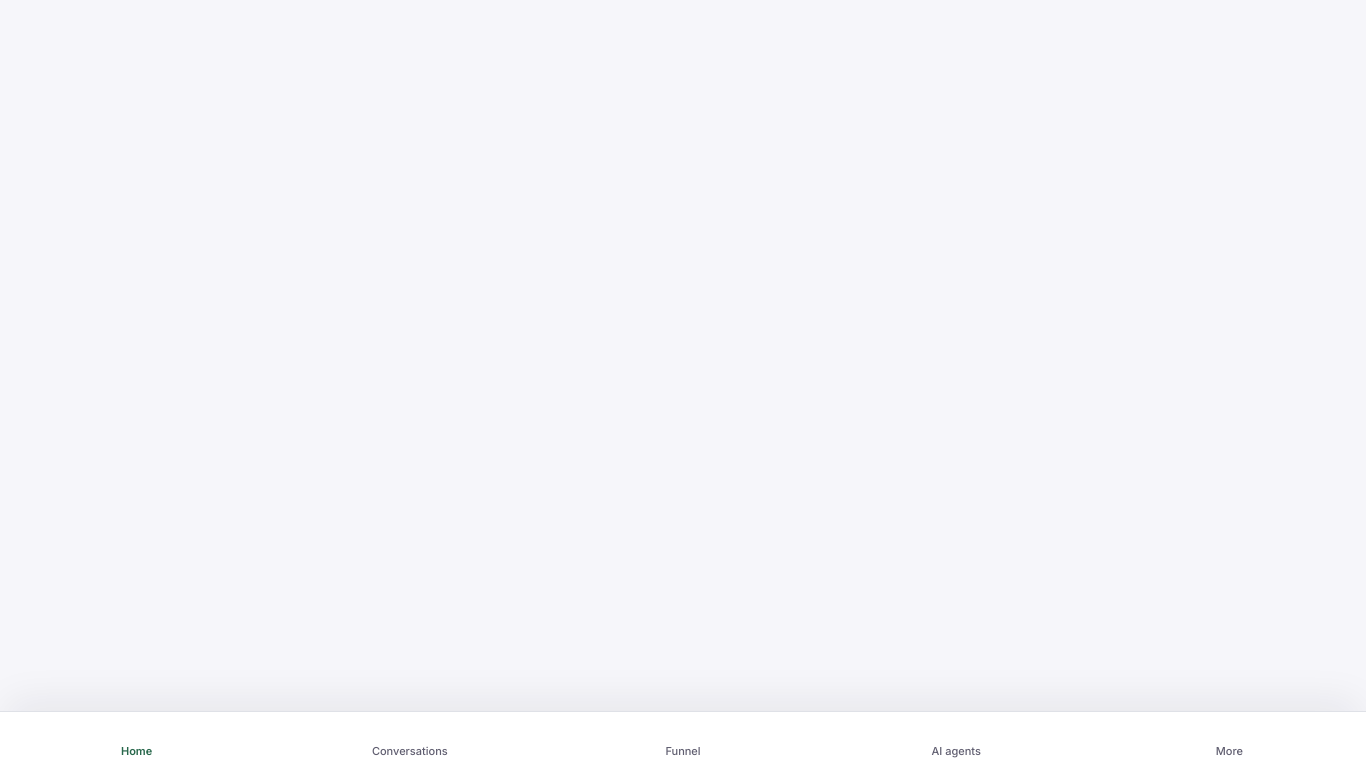
Scenario: MobileNav › closes after choosing a section
Click the button with aria-label "Open menu": (1229, 751) [1093,712,1365,767]
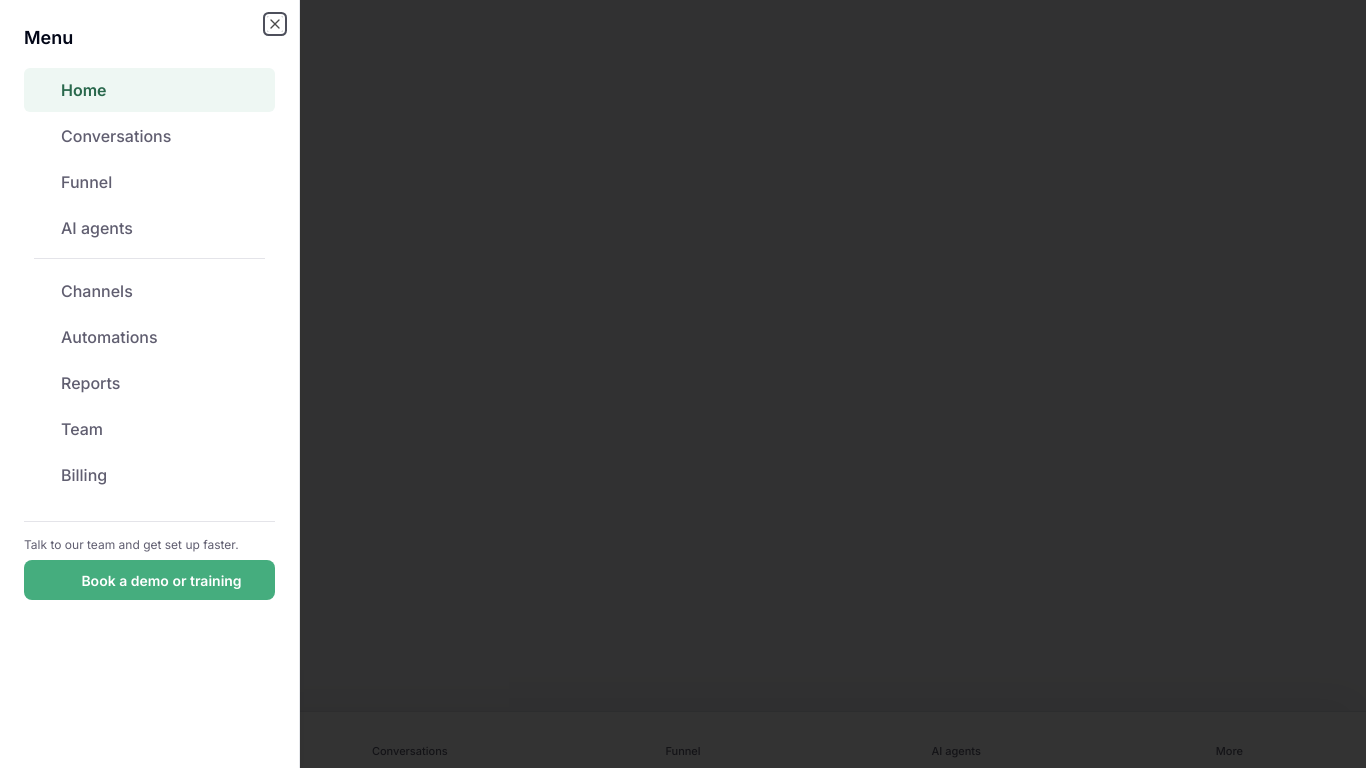
Click the link "Team": (82, 429) [61,419,103,439]
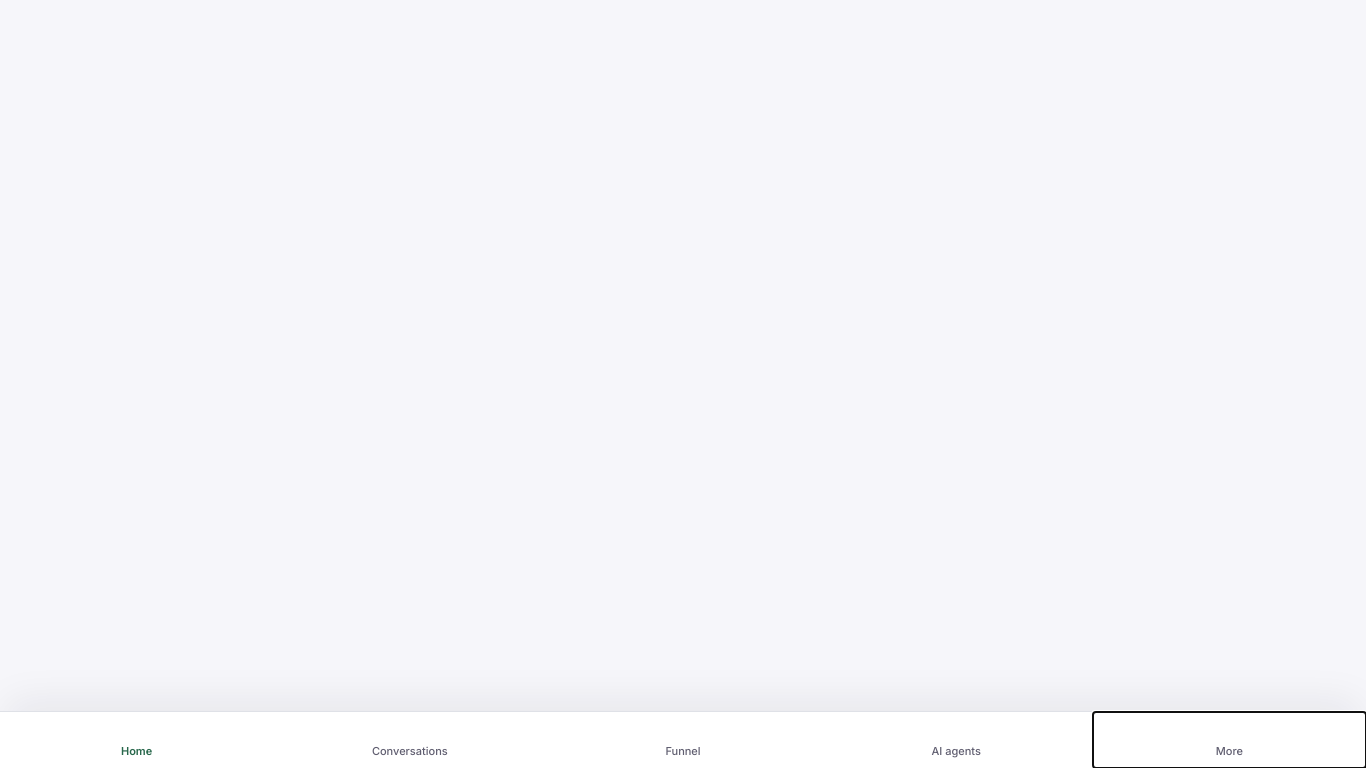
Check: the dialog is gone
